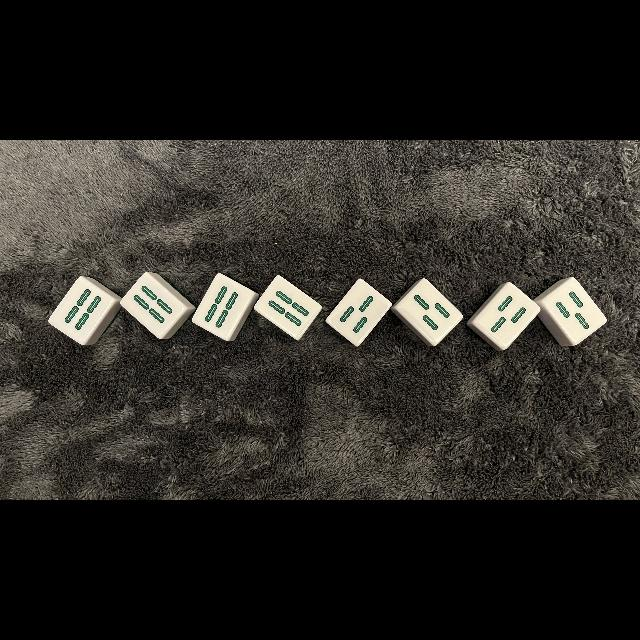b3: (550, 285, 598, 337), (402, 287, 453, 335), (334, 288, 382, 338), (482, 290, 530, 340)
b4: (59, 285, 107, 335), (260, 284, 312, 330), (128, 281, 178, 327), (202, 281, 242, 333)
